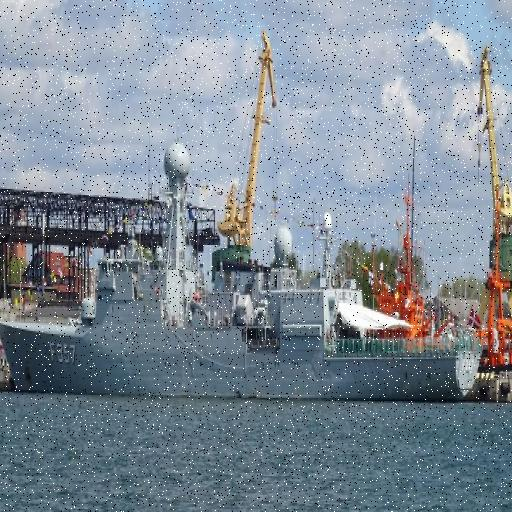Fragata: (1, 114, 486, 409)
